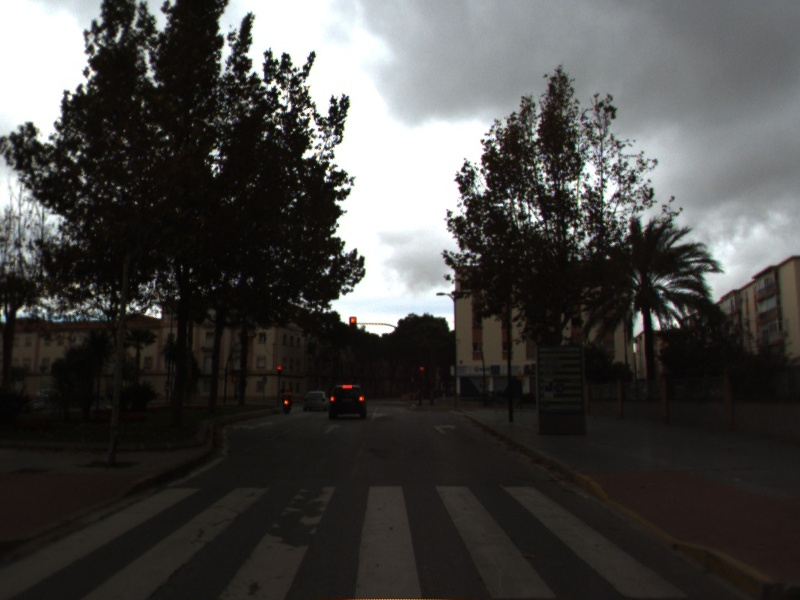RIGHT: (431, 422, 459, 436)
STRAIGHT: (321, 422, 345, 436)
STRAIGHT_LEFT: (230, 419, 276, 432)
